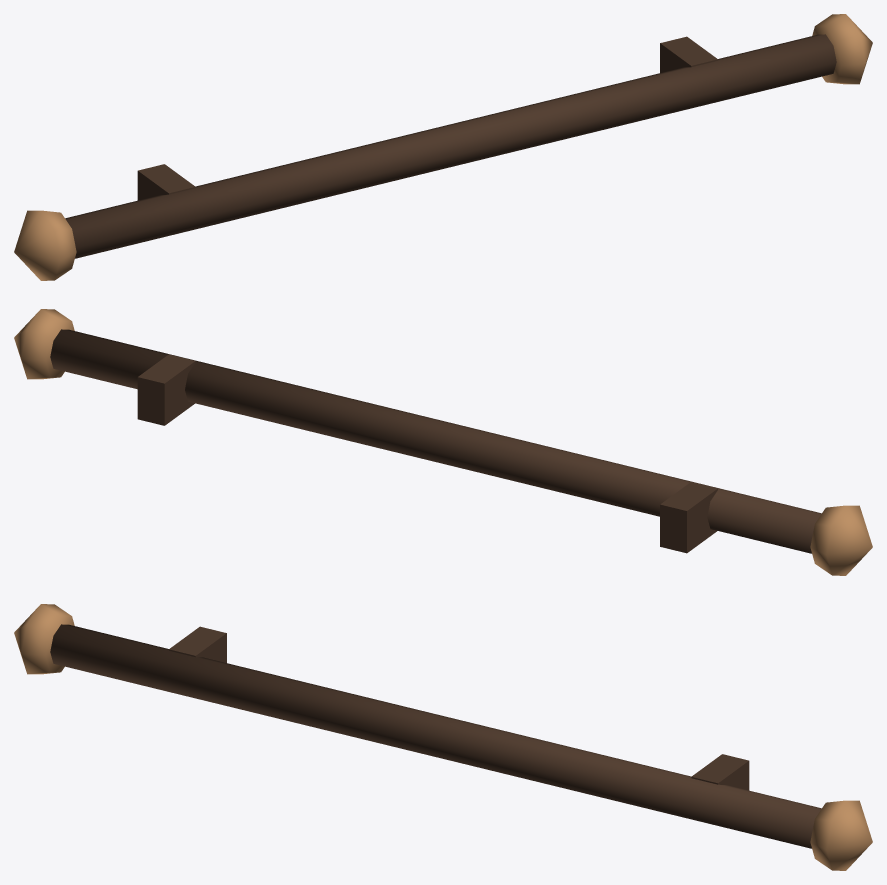
File: banner_regiment.glb
3 views of the same model, one above another, from view 1: azimuth 30°, elevation 25°; view 2: azimuth 150°, elevation 25°; view 3: azimuth 330°, elevation 25° (orthographic).
Parts seen in each view (by area): view 1: banner_regiment; view 2: banner_regiment; view 3: banner_regiment.
Part boxes in pixels (left/top/right/bottom): banner_regiment: left=14, top=14, right=872, bottom=280; banner_regiment: left=14, top=309, right=872, bottom=575; banner_regiment: left=14, top=604, right=872, bottom=870.
Size of the model in its own units: 0.638 by 0.05 by 0.065.
